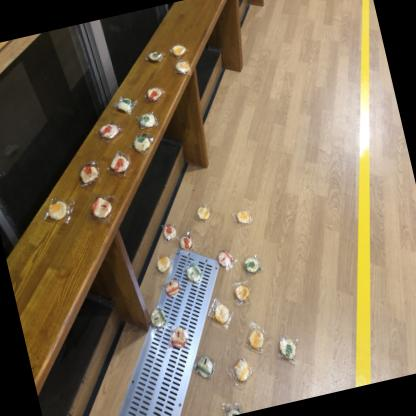green_setoshio: (190, 349, 220, 384), (275, 332, 302, 367), (130, 128, 158, 156), (145, 303, 171, 332), (113, 92, 140, 118), (142, 44, 168, 69), (136, 109, 162, 132), (242, 252, 264, 278), (218, 396, 246, 416), (184, 262, 204, 286)
red_setoshio: (84, 190, 121, 228), (76, 158, 105, 190), (105, 150, 135, 178), (166, 324, 192, 351), (96, 119, 124, 144), (215, 247, 238, 273), (176, 228, 197, 256), (160, 276, 184, 300), (144, 83, 168, 105), (161, 222, 179, 242)
yellow_setoshio: (38, 188, 80, 232), (225, 352, 258, 391), (204, 294, 236, 330), (242, 320, 270, 358), (230, 278, 254, 308), (229, 204, 256, 230), (152, 251, 176, 278), (172, 56, 194, 80), (194, 202, 215, 226), (168, 40, 189, 61)
